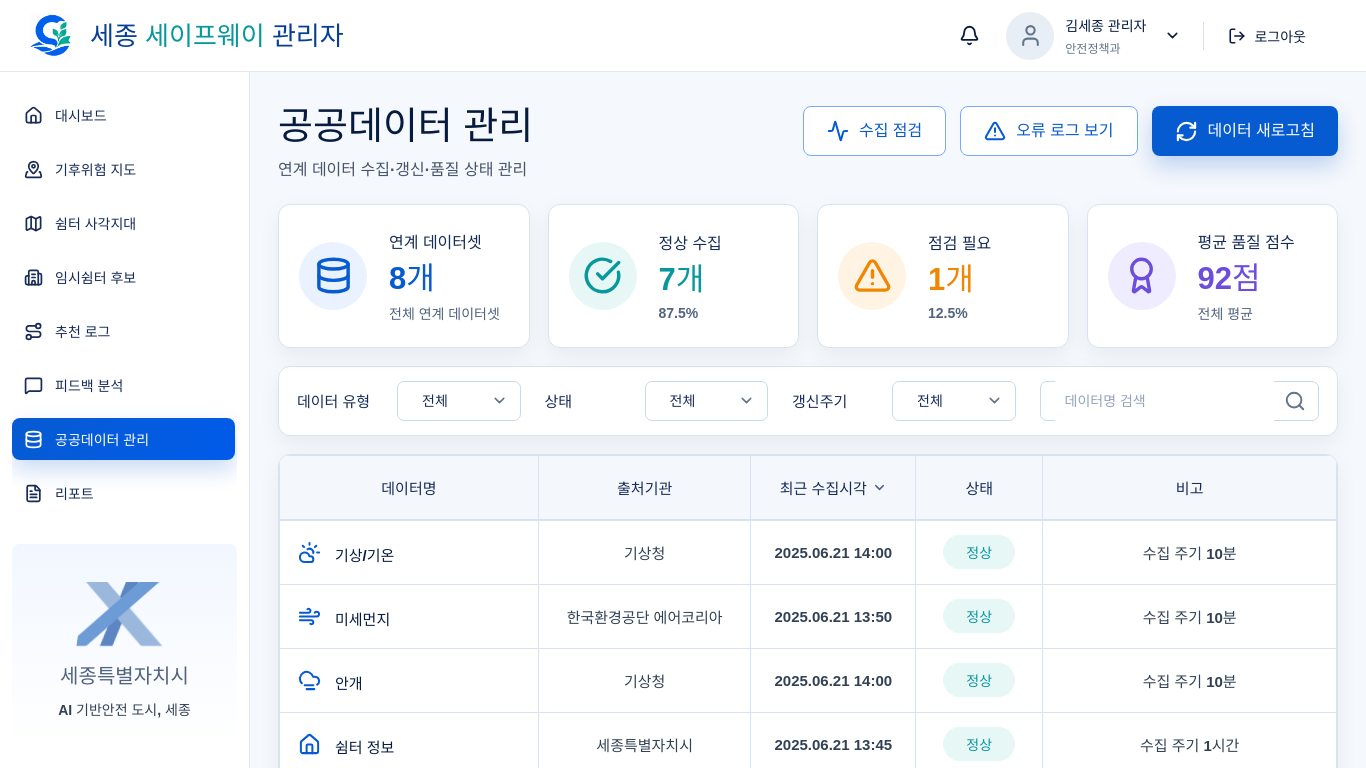
AdminPublicDataPage › shows demo feedback for top actions and alert log navigation
Click the button "수집 점검": (875, 131) [803,106,946,156]
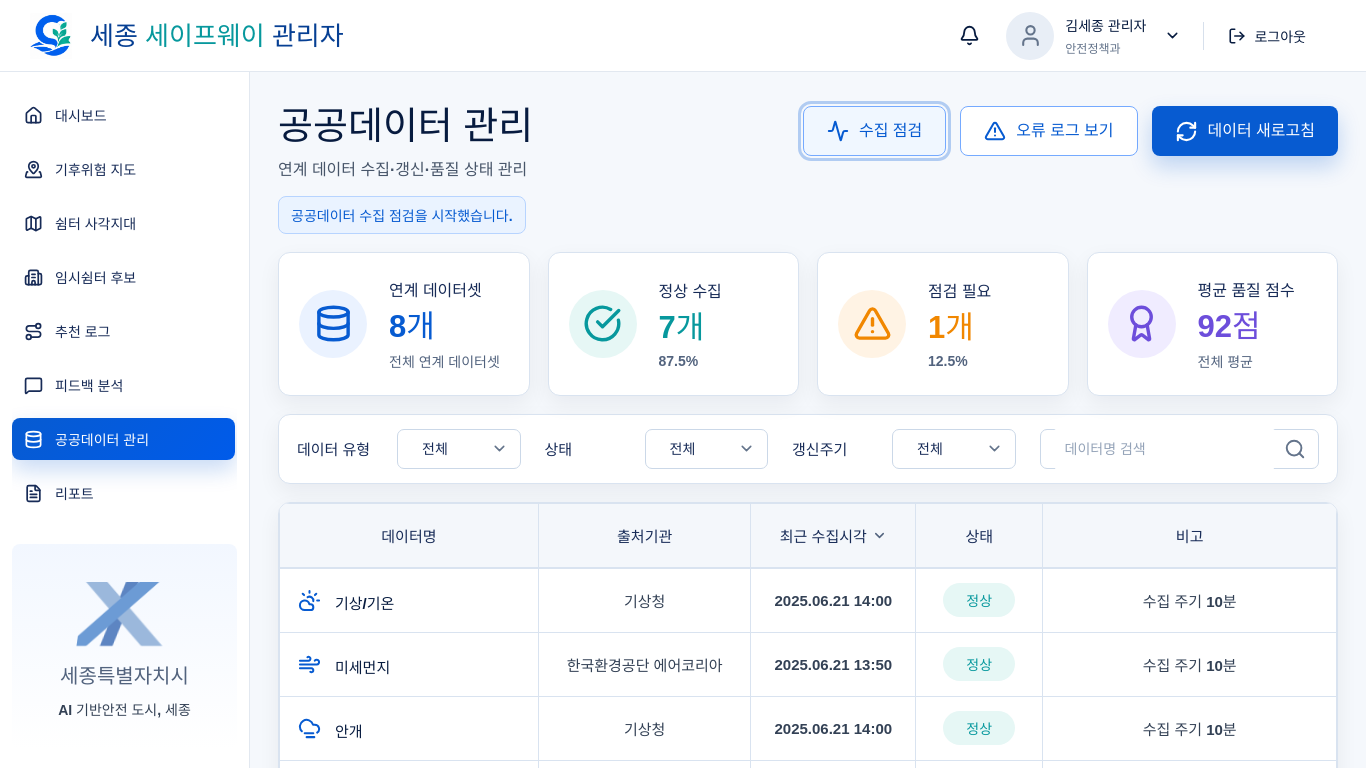
Check: the message reads "공공데이터 수집 점검을 시작했습니다.", box [291,208,513,224]
Click the button "오류 로그 보기": (1049, 131) [960,106,1138,156]
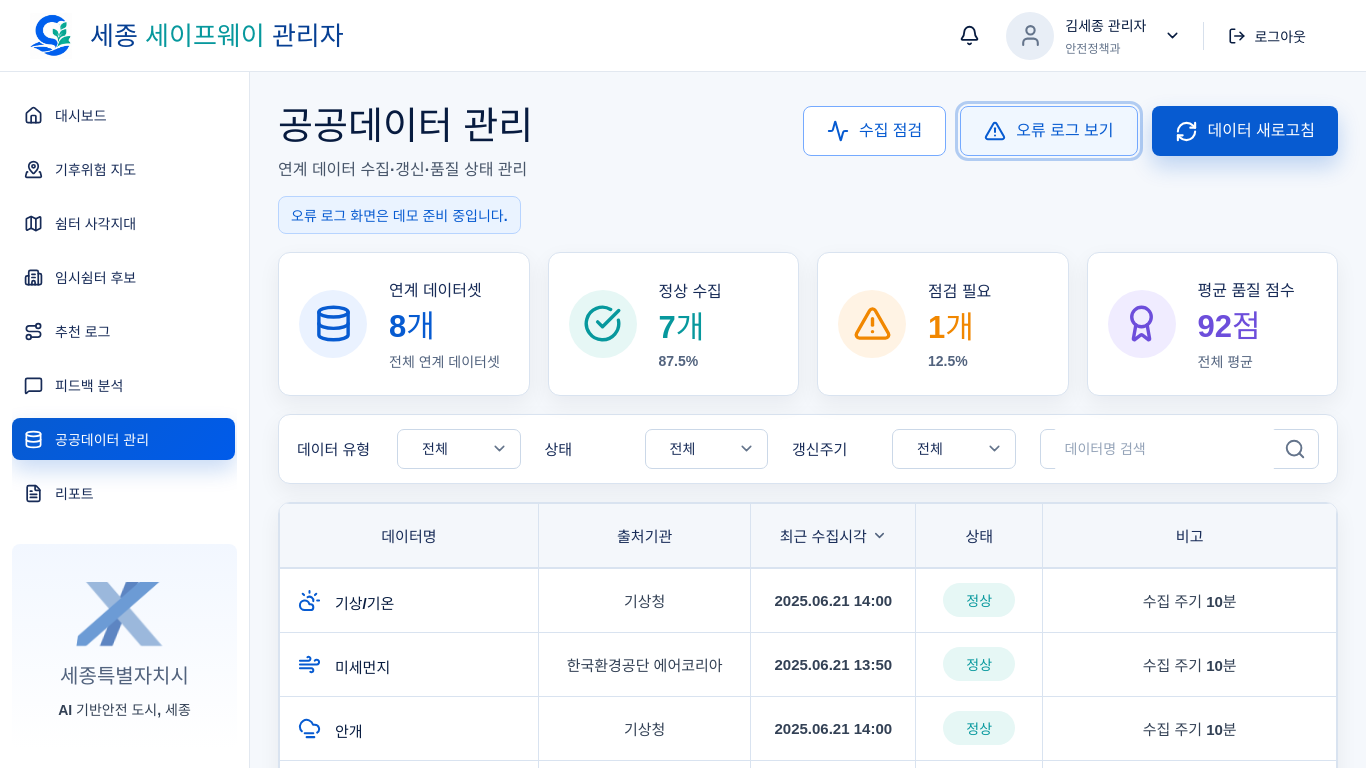
Check: the message reads "오류 로그 화면은 데모 준비 중입니다.", box [291,208,508,224]
Click the button "데이터 새로고침": (1245, 131) [1152,106,1338,156]
(page scrolled)
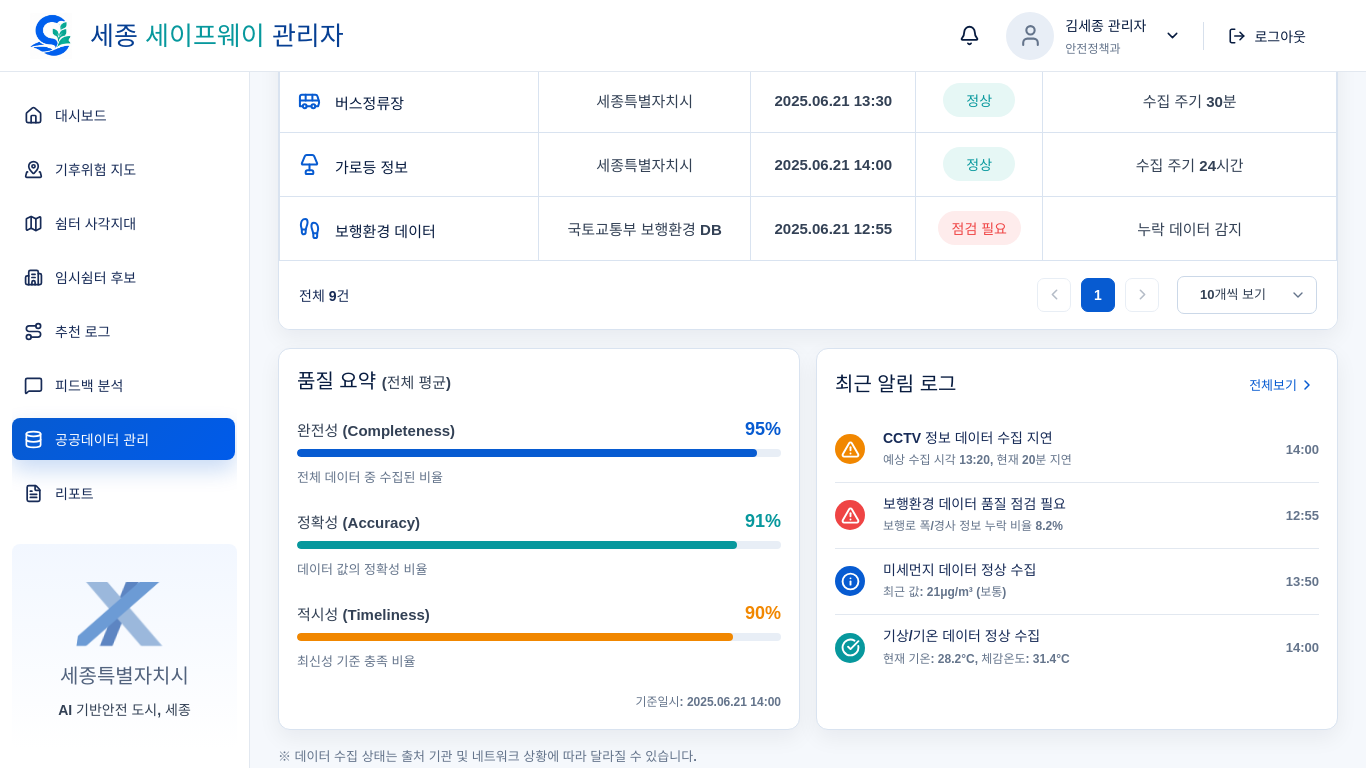
Click the button "전체보기": (1279, 385) [1239,369,1319,401]
(page scrolled)
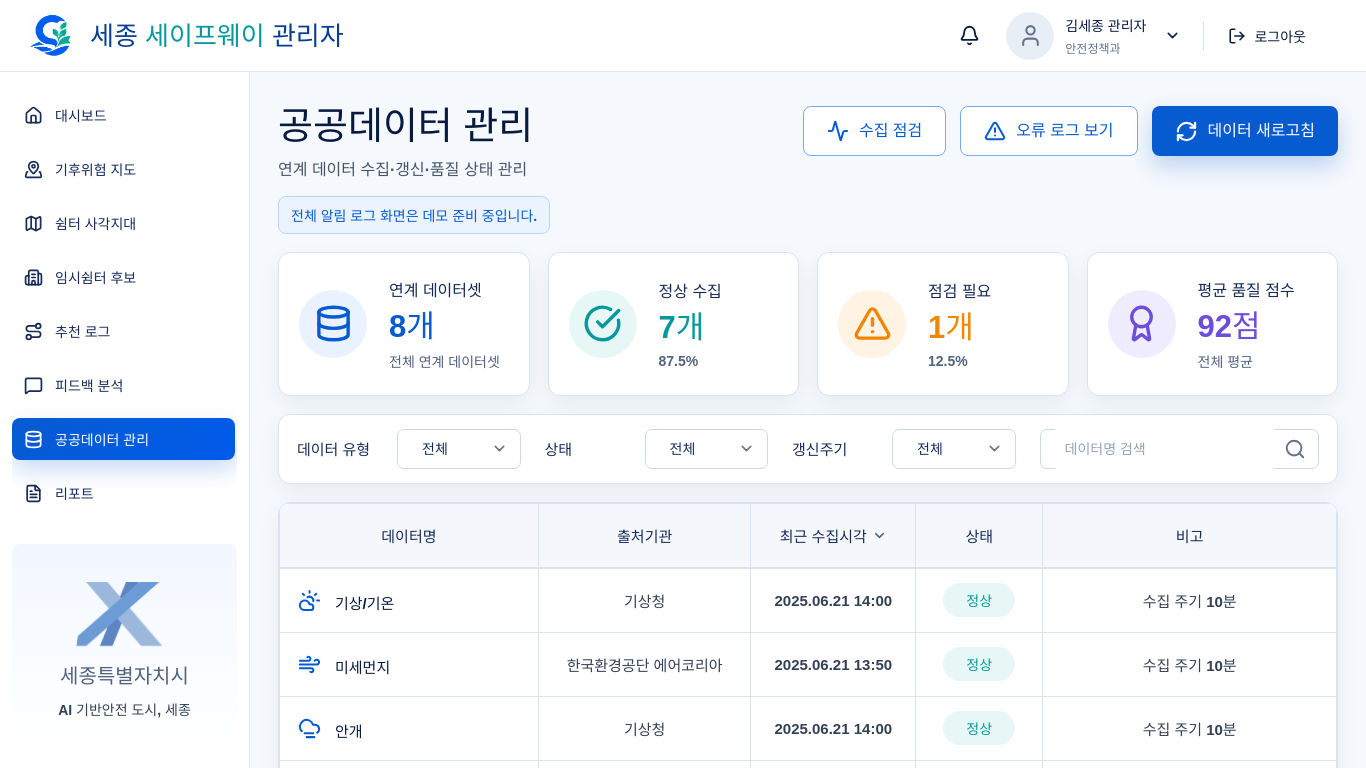
Check: the message reads "전체 알림 로그 화면은 데모 준비 중입니다.", box [291,208,537,224]
